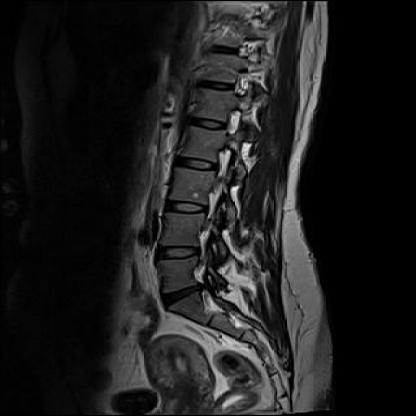Degenerative Disc Diseaserotation: (159, 285, 206, 303)
Disc Herniationrotation: (159, 285, 206, 304)
